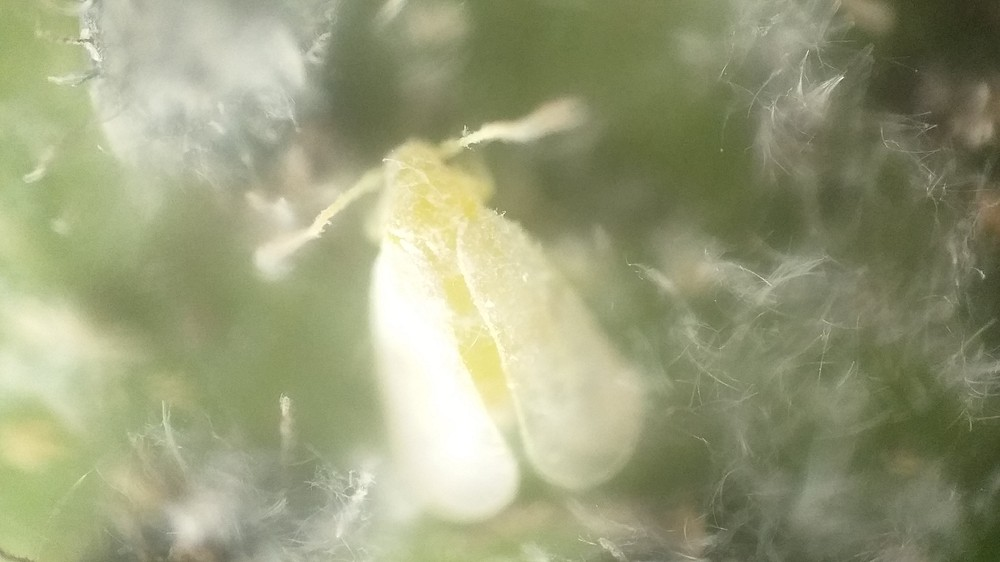Mosca Blanca: (250, 89, 696, 527)
